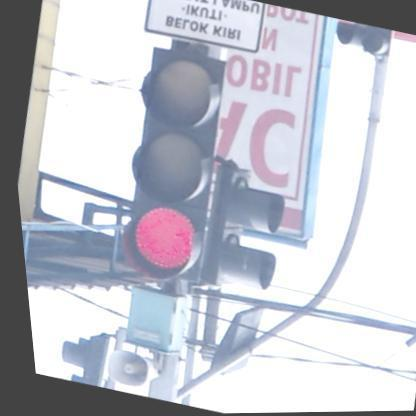red: (94, 41, 242, 289)
